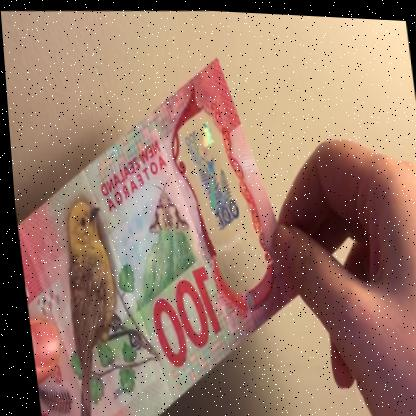100B: (177, 113, 244, 241)
